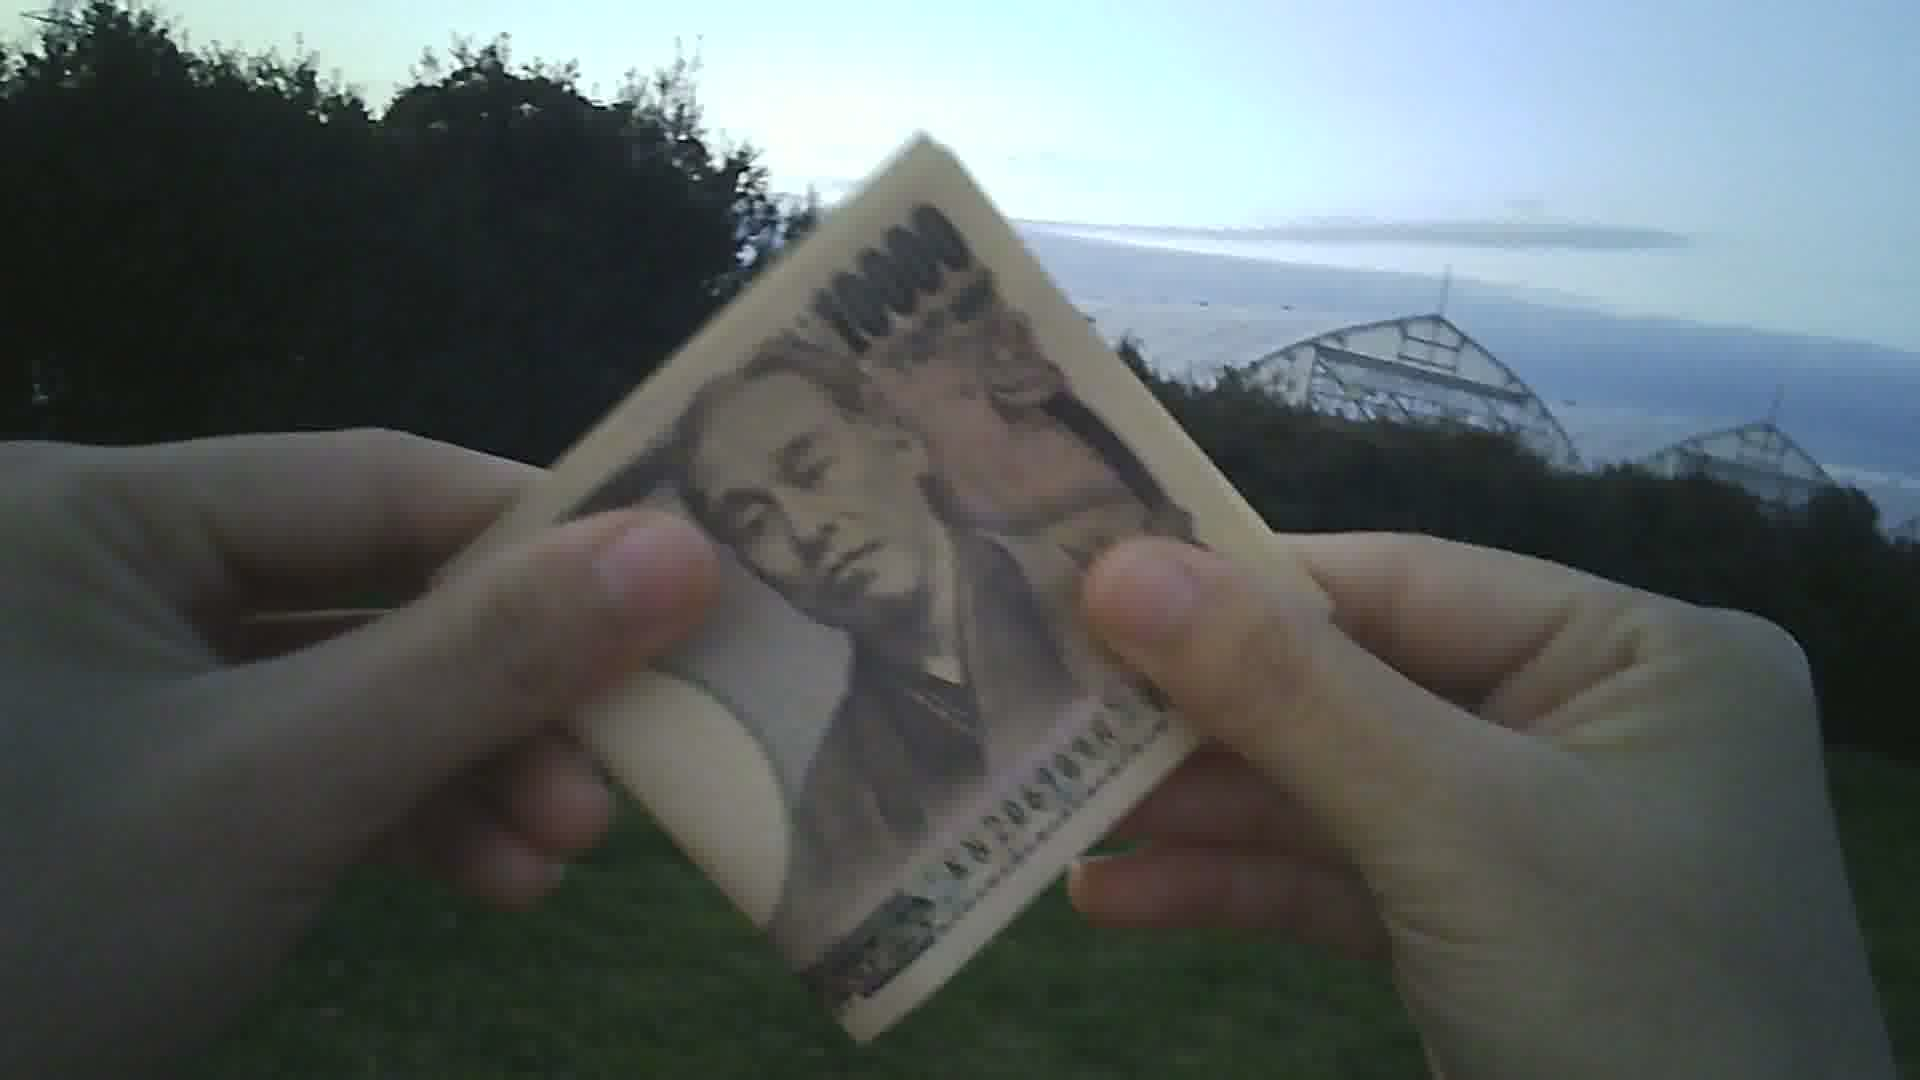10,000 Yen: (438, 127, 1332, 1062)
